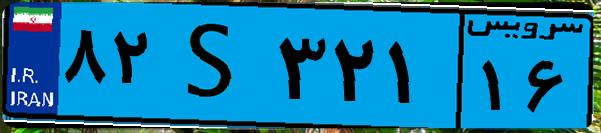1: (385, 28, 445, 110), (475, 38, 525, 113)
2: (330, 28, 385, 110), (110, 28, 158, 98)
3: (270, 28, 330, 110)
6: (525, 38, 570, 115)
8: (57, 26, 110, 100)
S: (158, 12, 270, 120)
